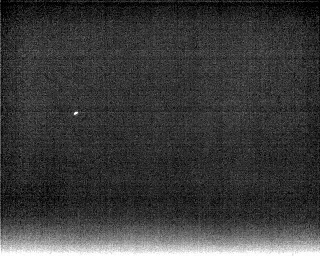BIRD: (71, 108, 80, 118)
